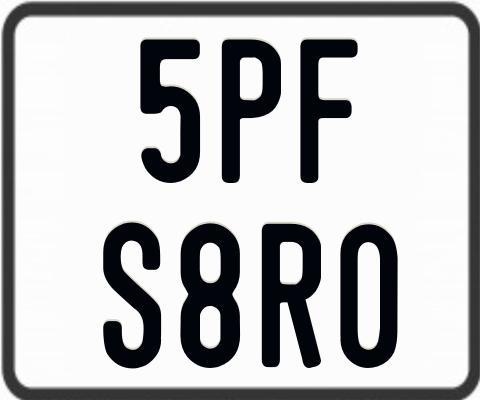0: (337, 222, 396, 368)
5: (137, 37, 198, 181)
8: (177, 222, 239, 370)
F: (300, 39, 359, 184)
P: (220, 38, 280, 184)
R: (262, 224, 326, 372)
S: (102, 220, 161, 369)
